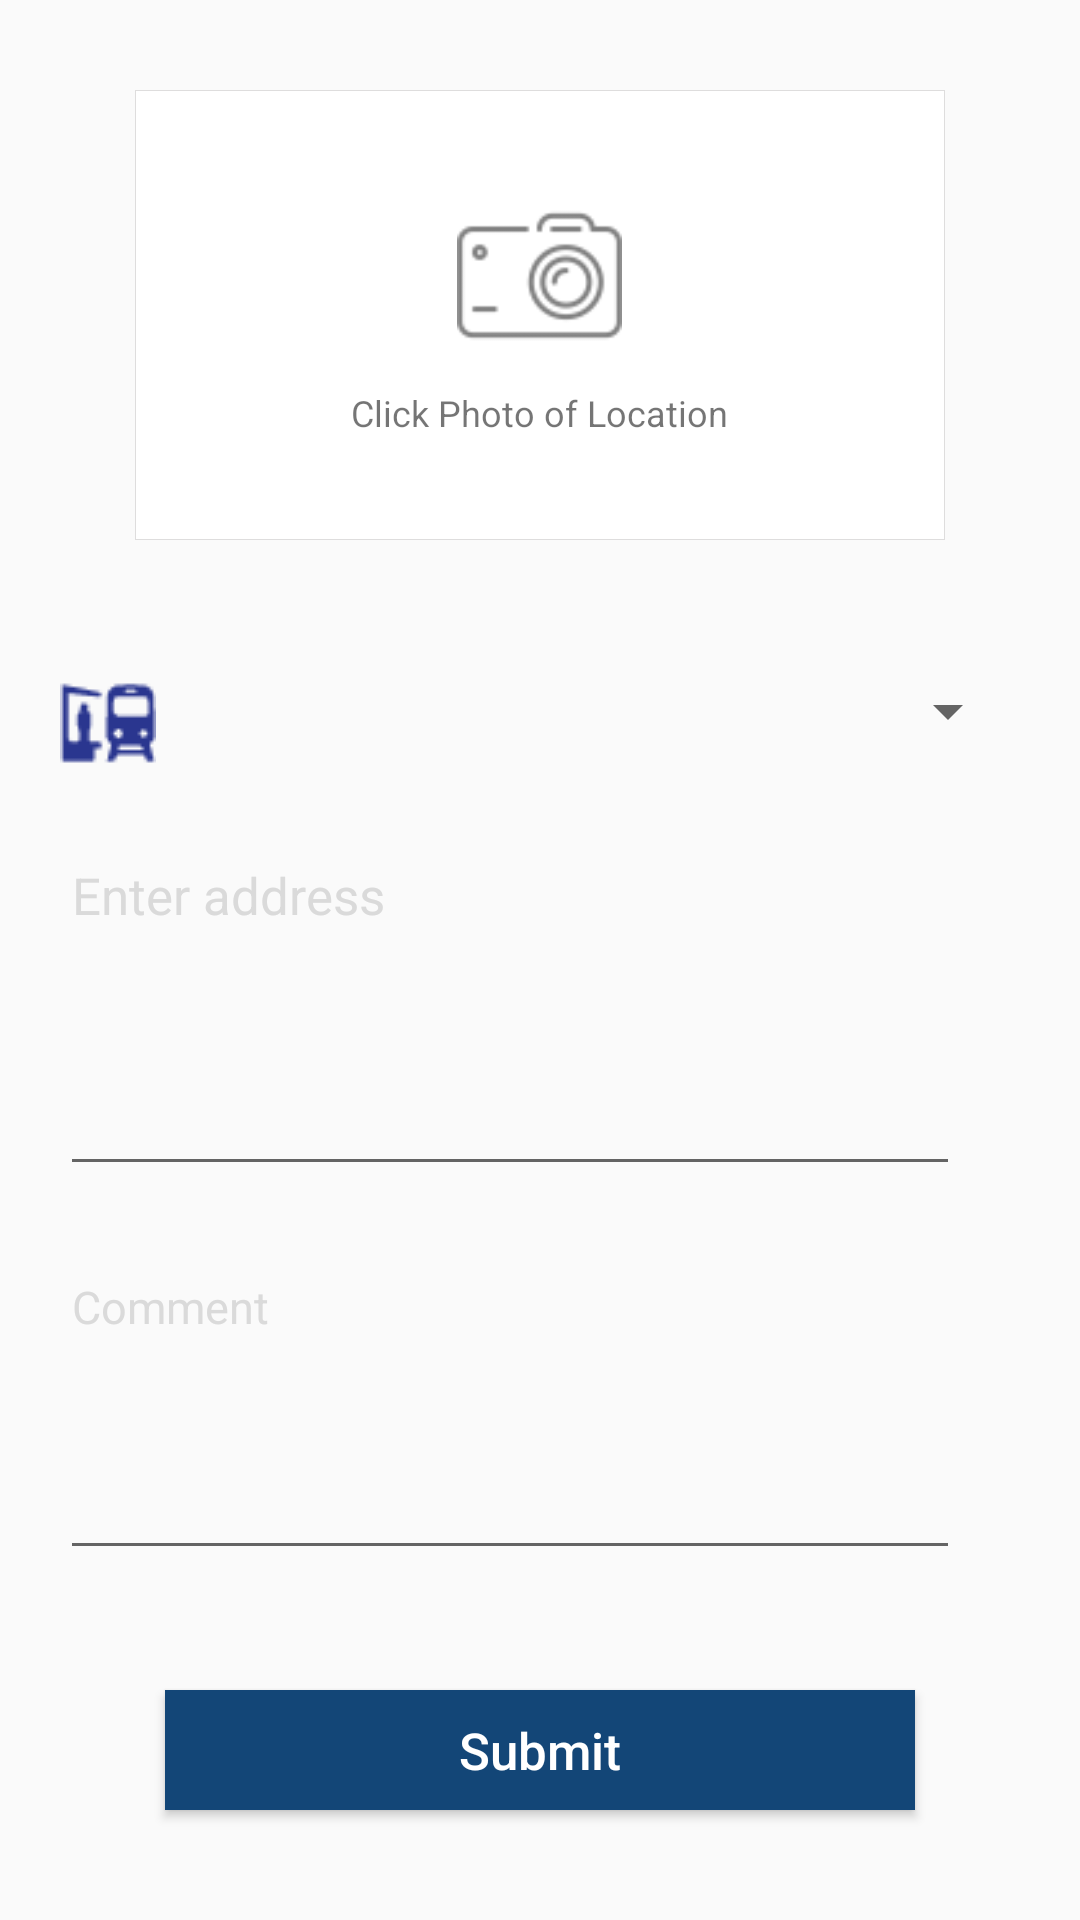

Screen size 1080px x 1920px. Icon name, then its center in pixels as (x=x, y=y):
camera: (x=539, y=275)
station: (x=108, y=723)
